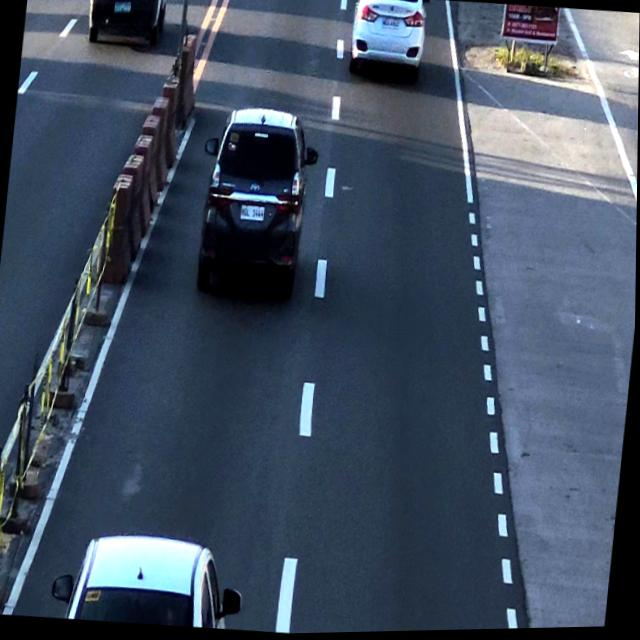Car: (193, 100, 313, 298), (67, 531, 238, 632), (348, 0, 430, 80)
License-Plate: (236, 203, 266, 226), (382, 17, 400, 34)
